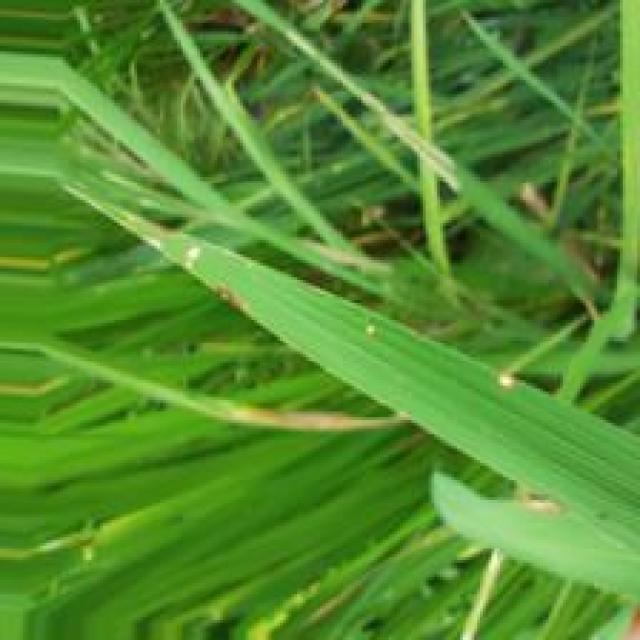Brown_Spot: (215, 278, 256, 310)
